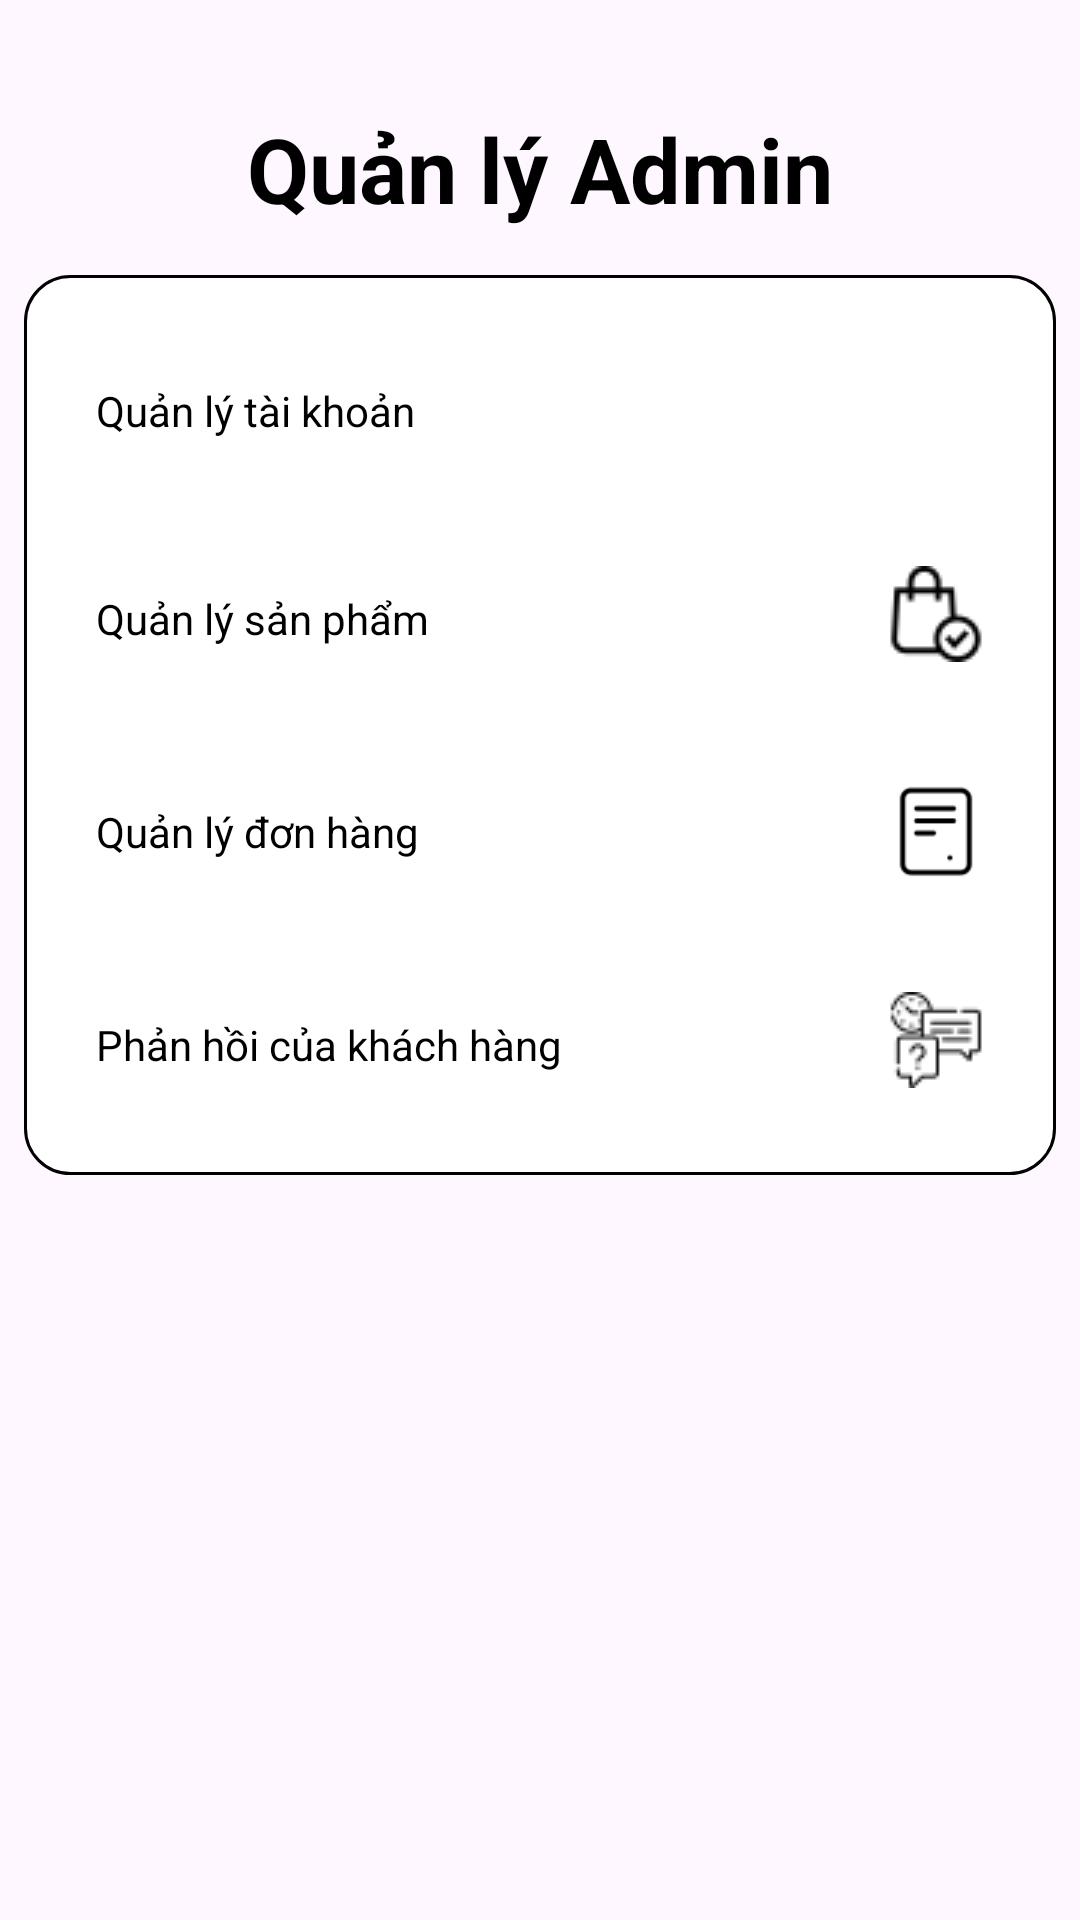

Named icons in this screenshot (1080 x 1920) and their centers, point (x, y):
respon: point (936, 1040)
shopping: point (936, 614)
